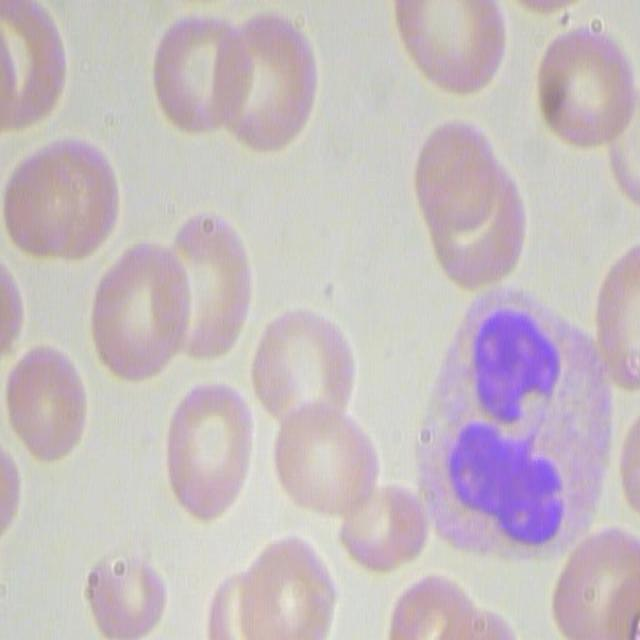RBC: (414, 115, 528, 298), (215, 5, 322, 157), (4, 136, 119, 272), (87, 232, 190, 378), (161, 377, 261, 521), (247, 303, 361, 427), (165, 209, 255, 362), (208, 532, 336, 637), (152, 4, 250, 140), (270, 404, 382, 522), (536, 22, 638, 151), (393, 0, 508, 93), (2, 342, 86, 467), (551, 527, 640, 638), (380, 571, 521, 640), (0, 0, 70, 135), (335, 484, 423, 579), (594, 234, 640, 390), (85, 553, 166, 638), (607, 89, 640, 212)
WBC: (428, 297, 599, 561)
